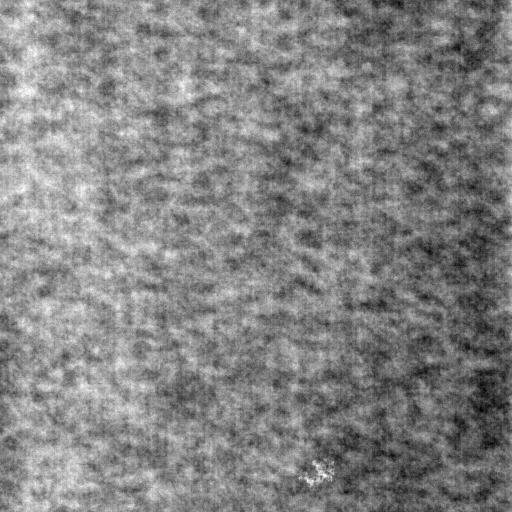stain: (297, 457, 341, 494)
